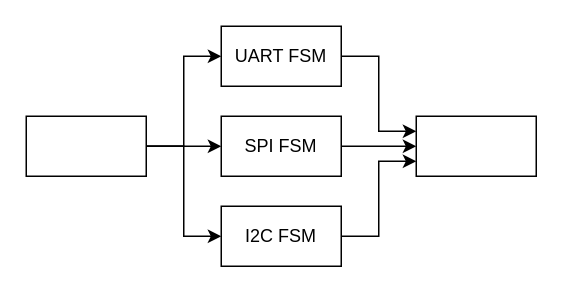
Image size: 563x293. Some labels were removed from this diagram. Here are the shapes that lost their labels. From the top down, the centre of each, then its label:
(x=85, y=145): Input Pins
(x=475, y=145): Output Pins
